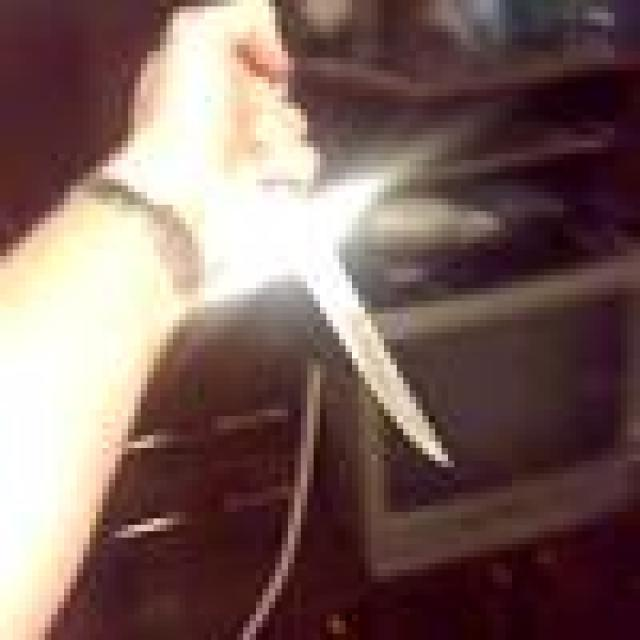faca: (102, 0, 486, 486)
